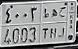0: (11, 12, 20, 44), (20, 12, 28, 45)
3: (28, 6, 38, 44)
4: (2, 7, 12, 44)
H: (49, 8, 59, 39)
J: (58, 7, 67, 39)
T: (41, 8, 50, 39)
